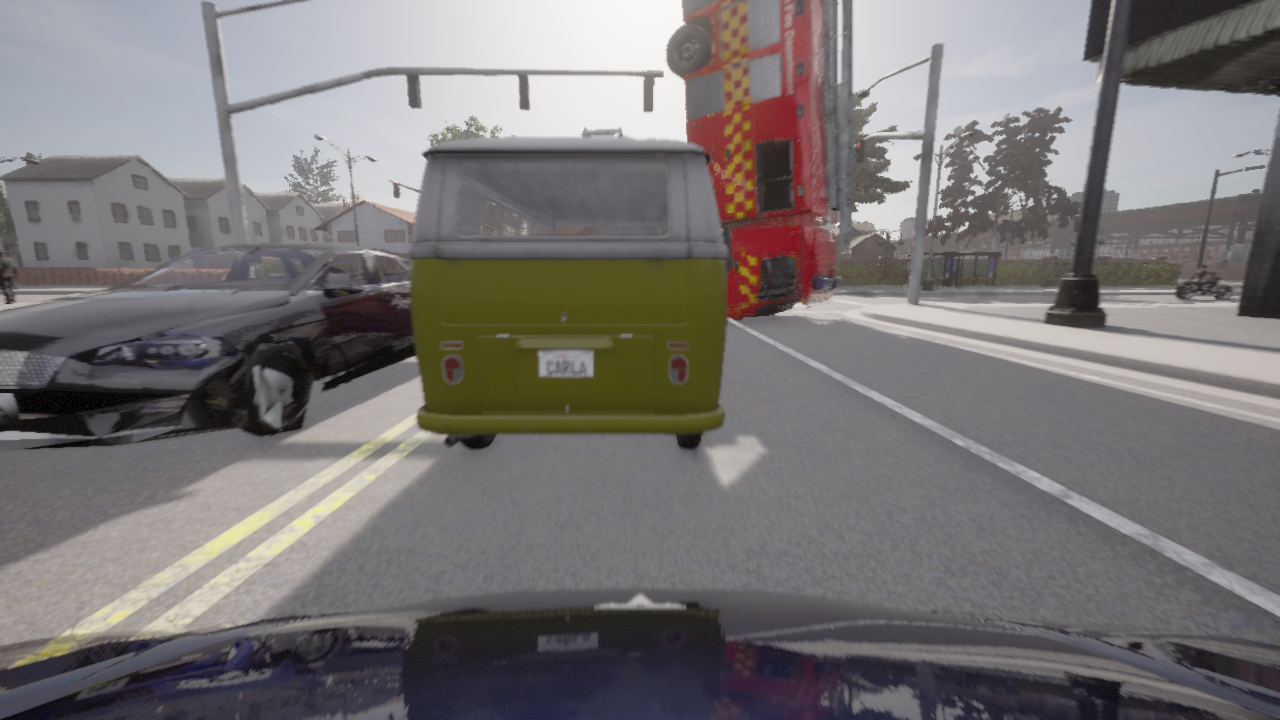cyclist: (0, 588, 1279, 719), (408, 137, 727, 449), (0, 243, 416, 450), (665, 0, 853, 321), (582, 126, 702, 148), (1175, 275, 1233, 300)
pedestrian: (933, 282, 938, 284)
